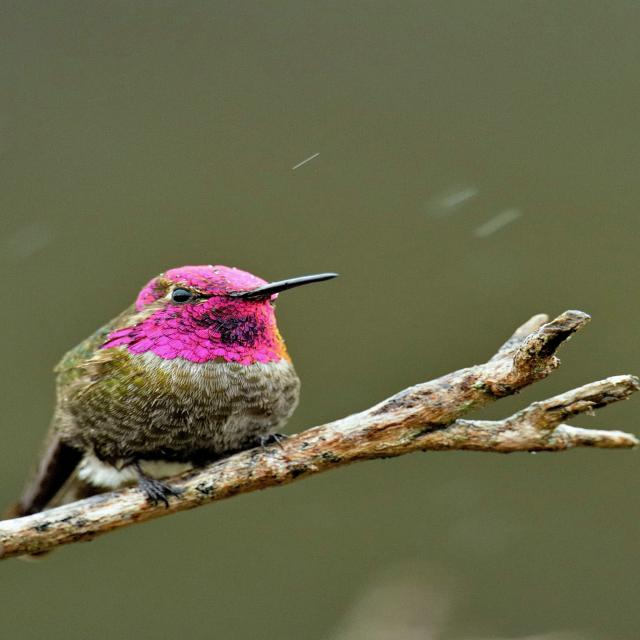hummingbird: (13, 265, 337, 517)
